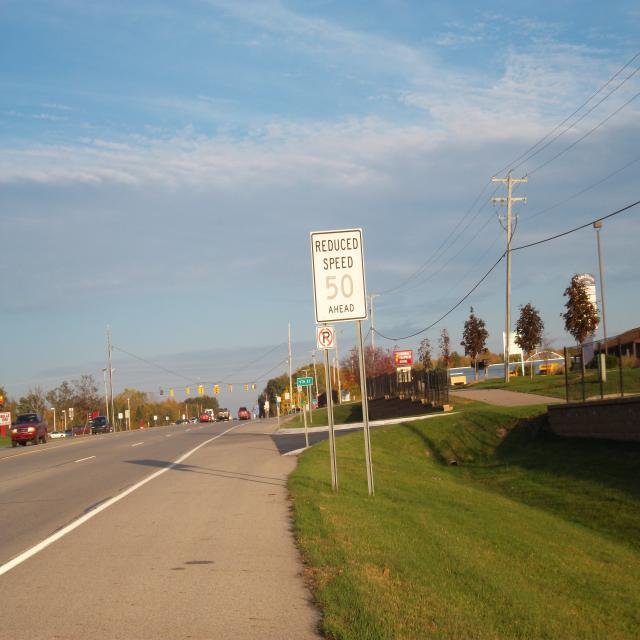regulatory: (308, 227, 368, 326), (316, 323, 336, 352), (285, 392, 290, 400), (265, 401, 269, 409), (276, 397, 282, 402), (298, 386, 302, 392)
